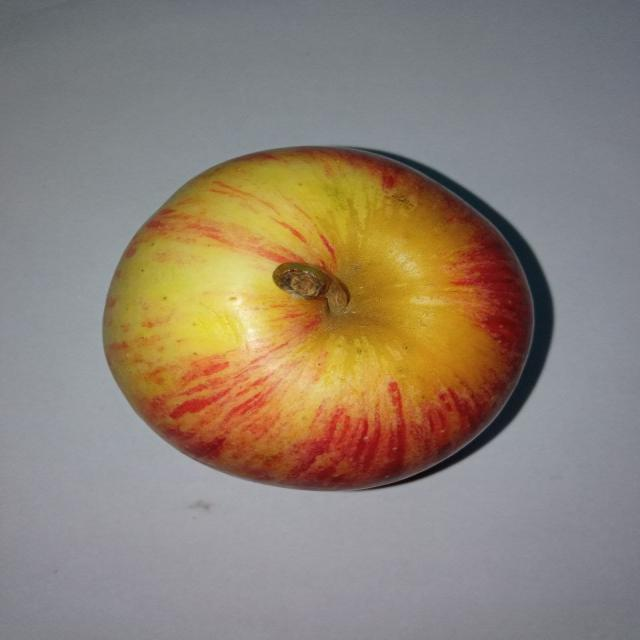fresh_apple: (100, 146, 531, 488)
